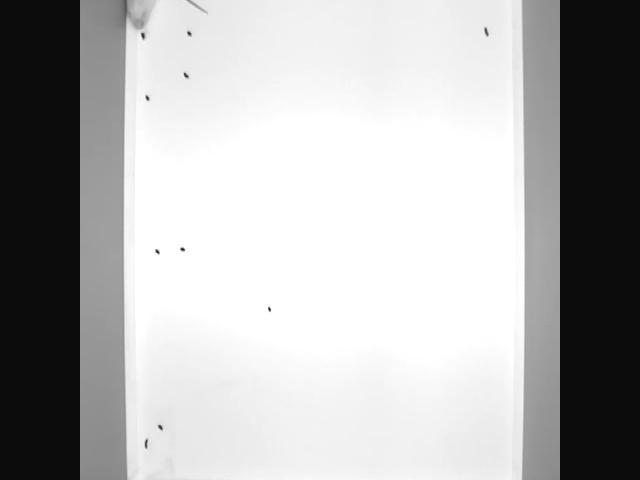Tikus: (120, 0, 210, 35)
